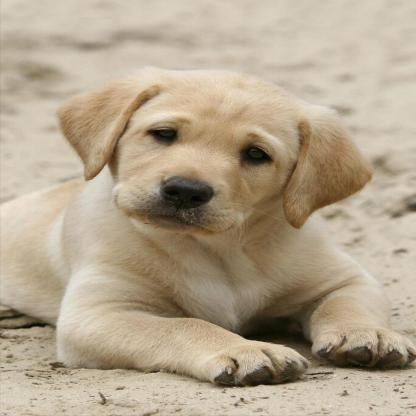Labarador Retriever: (5, 60, 412, 384)
